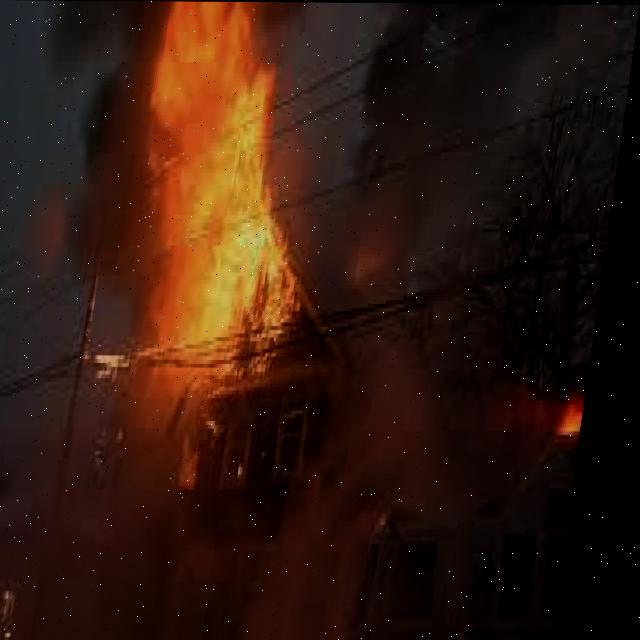Fire: (107, 24, 340, 429)
